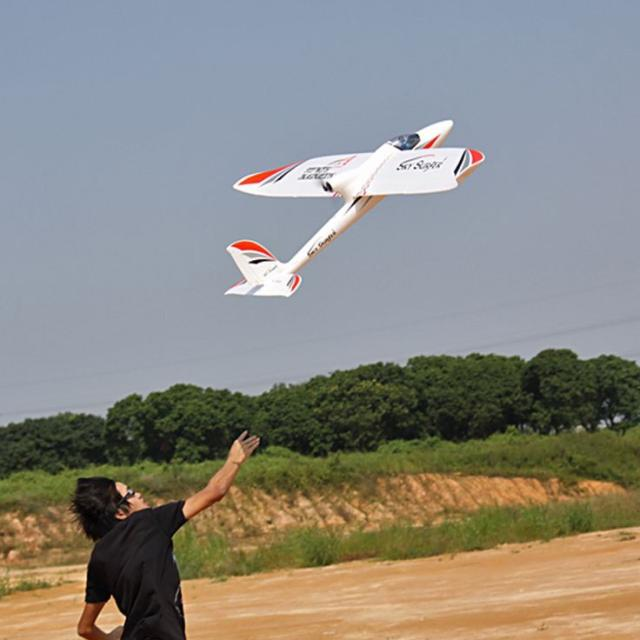iha: (227, 115, 484, 299)
